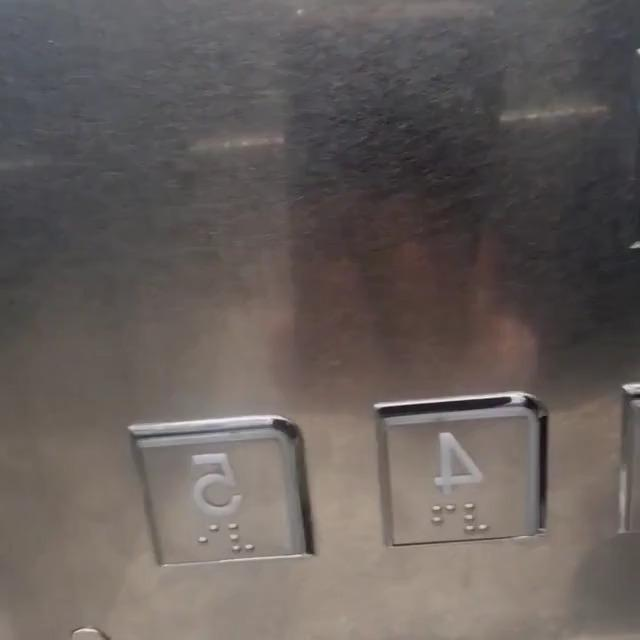button: (388, 392, 547, 547), (156, 419, 303, 568)
